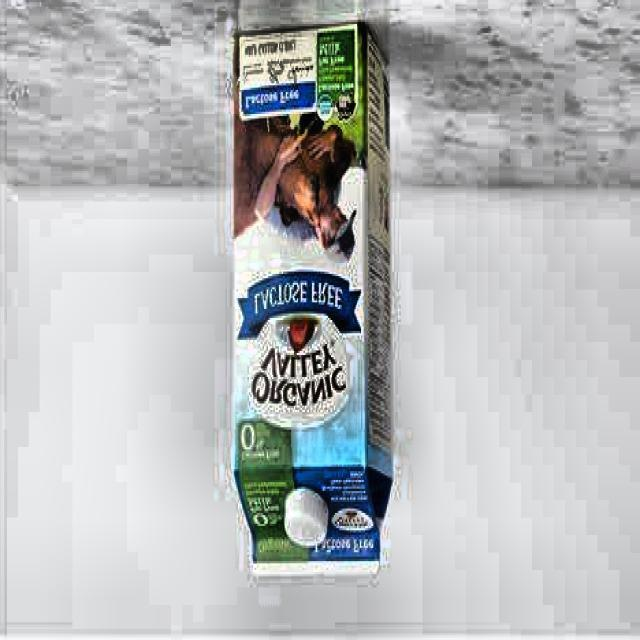cardboard: (230, 21, 392, 576)
